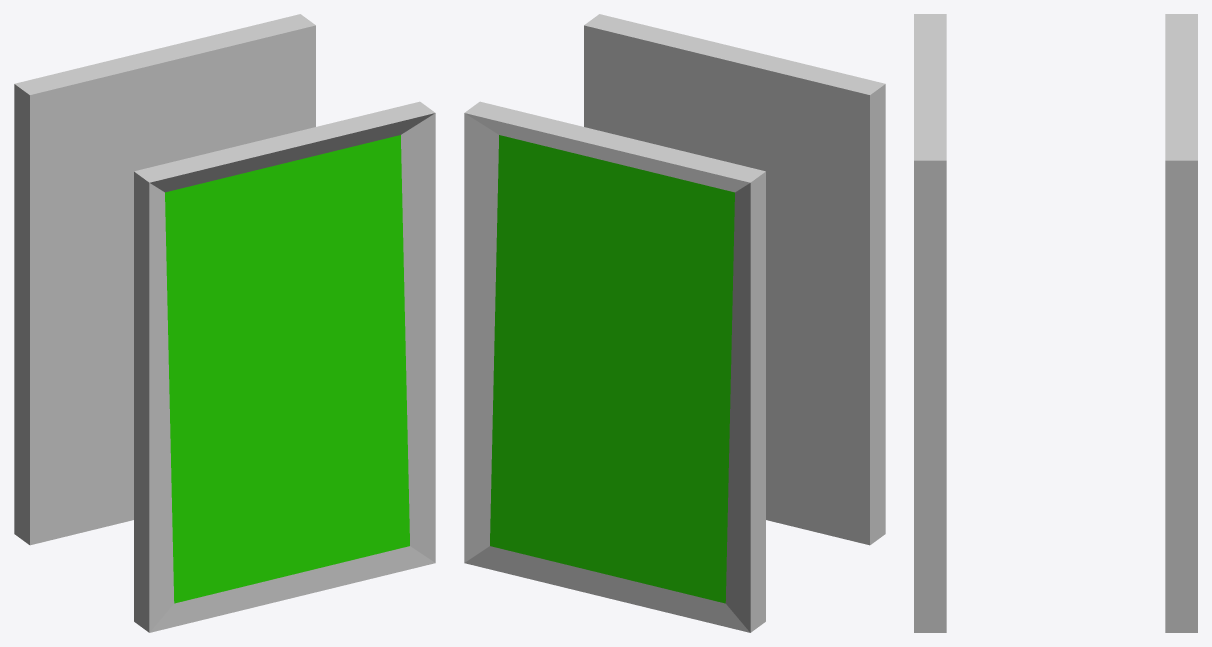
The model's file is TowerUp_DoorPanel.fbx.
3 renders of one model, left to right at view 1: azimuth 30°, elevation 25°; view 2: azimuth 150°, elevation 25°; view 3: azimuth 270°, elevation 25°, orthographic. The views are drawn at different scales.
Parts seen in each view (by area): view 1: DoorPanel; view 2: DoorPanel; view 3: DoorPanel.
Part boxes in pixels (box(x1,y1,x2,y2)): DoorPanel: box(14, 14, 435, 632); DoorPanel: box(464, 14, 885, 632); DoorPanel: box(914, 14, 1197, 632).
Bounding box in the file's own units: 50.07 × 75.26 × 40.96.
